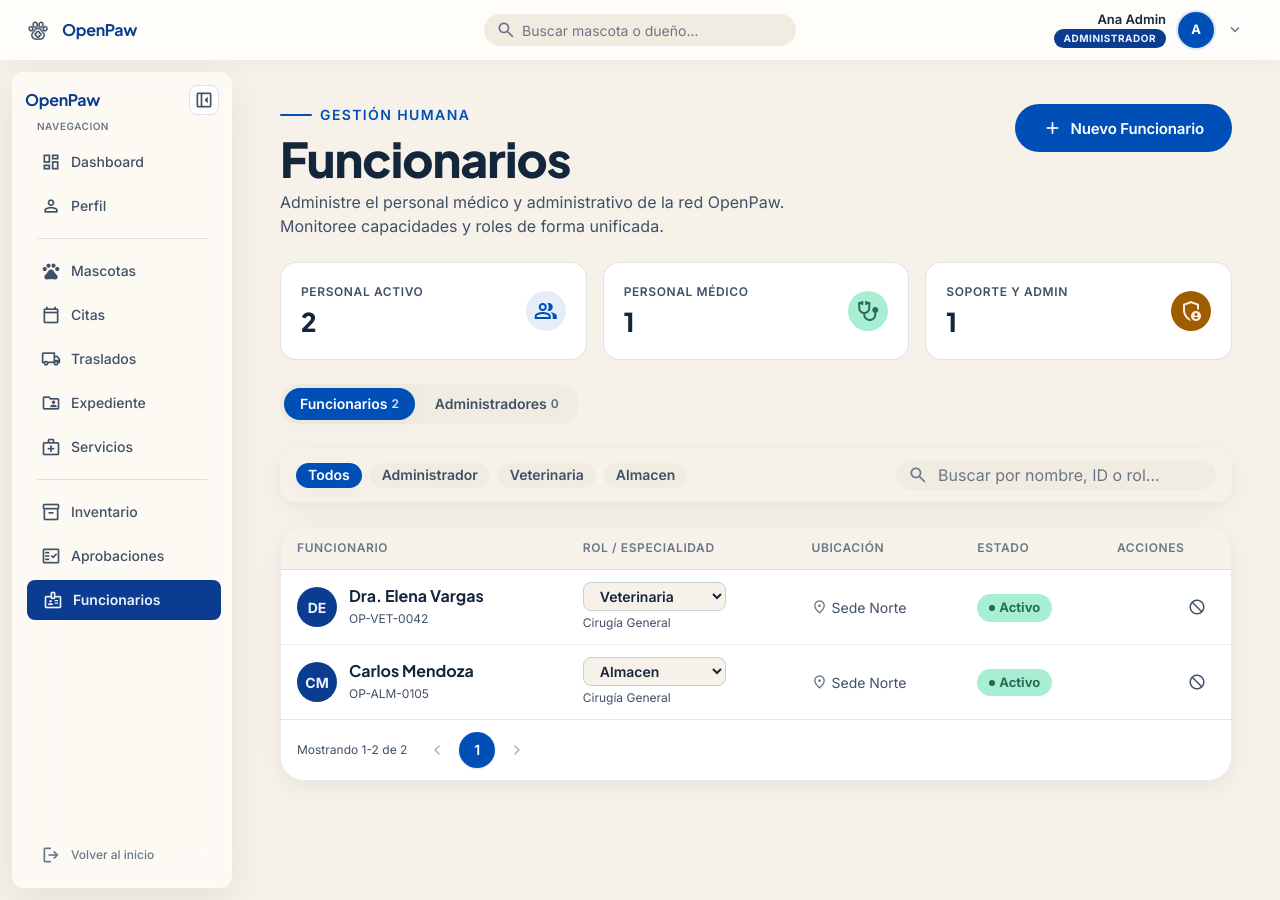
Test: FuncionariosPage - rediseno tabla con buscador, filtros rol y paginacion (T32) › el buscador filtra por texto (nombre / ID corporativo) y se puede limpiar
Expected: the text "Dra. Elena Vargas" is shown, [349, 586, 484, 607]
Step 1. Type "OP-ALM-0105" into the search field named "Buscar funcionario" → (1070, 475), box [936, 464, 1204, 486]
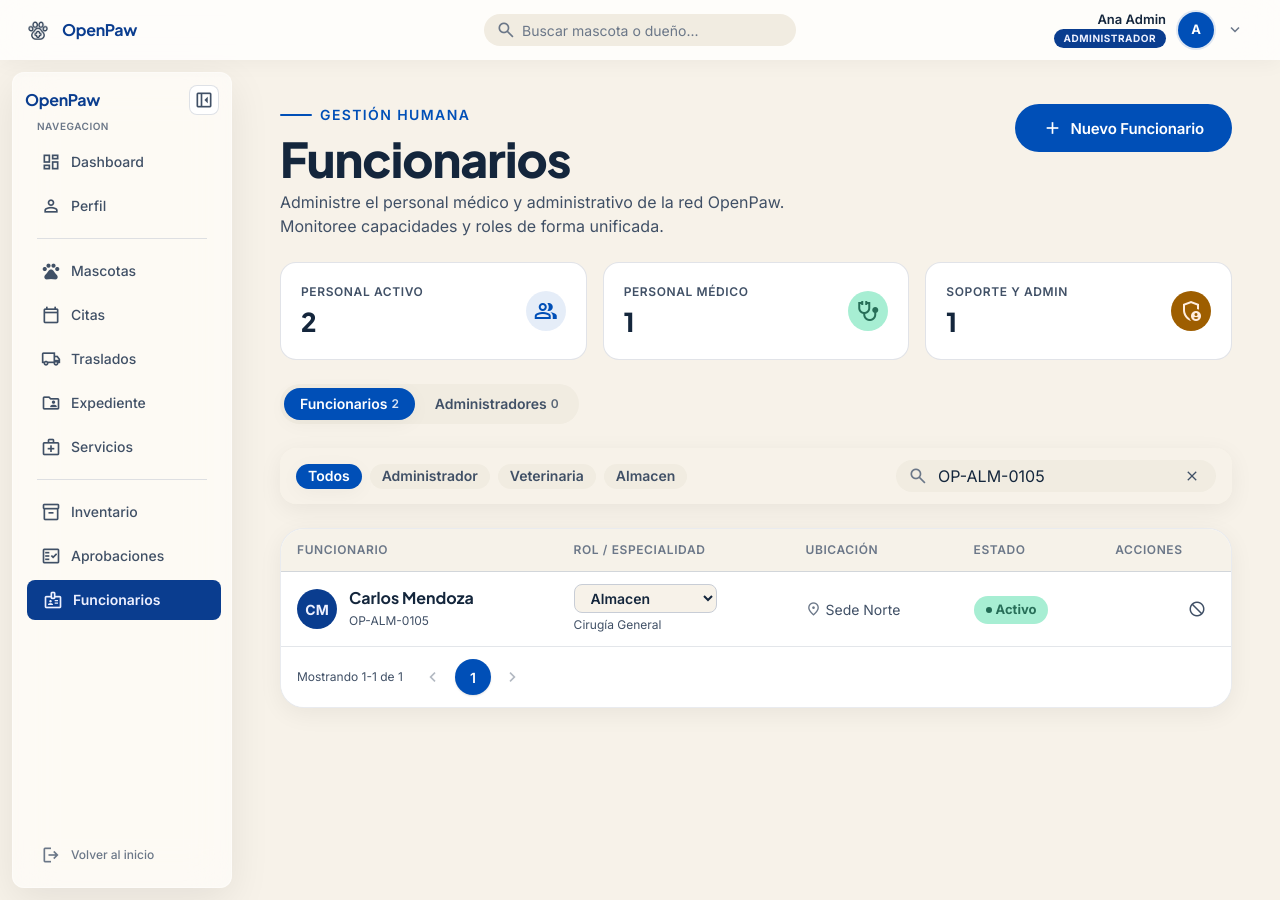
Expected: the text "Carlos Mendoza" is shown, [349, 588, 474, 609]
Result: the text "Dra. Elena Vargas" is gone
Step 2. Click the button named "Limpiar busqueda" → (1192, 476), box [1180, 464, 1204, 488]
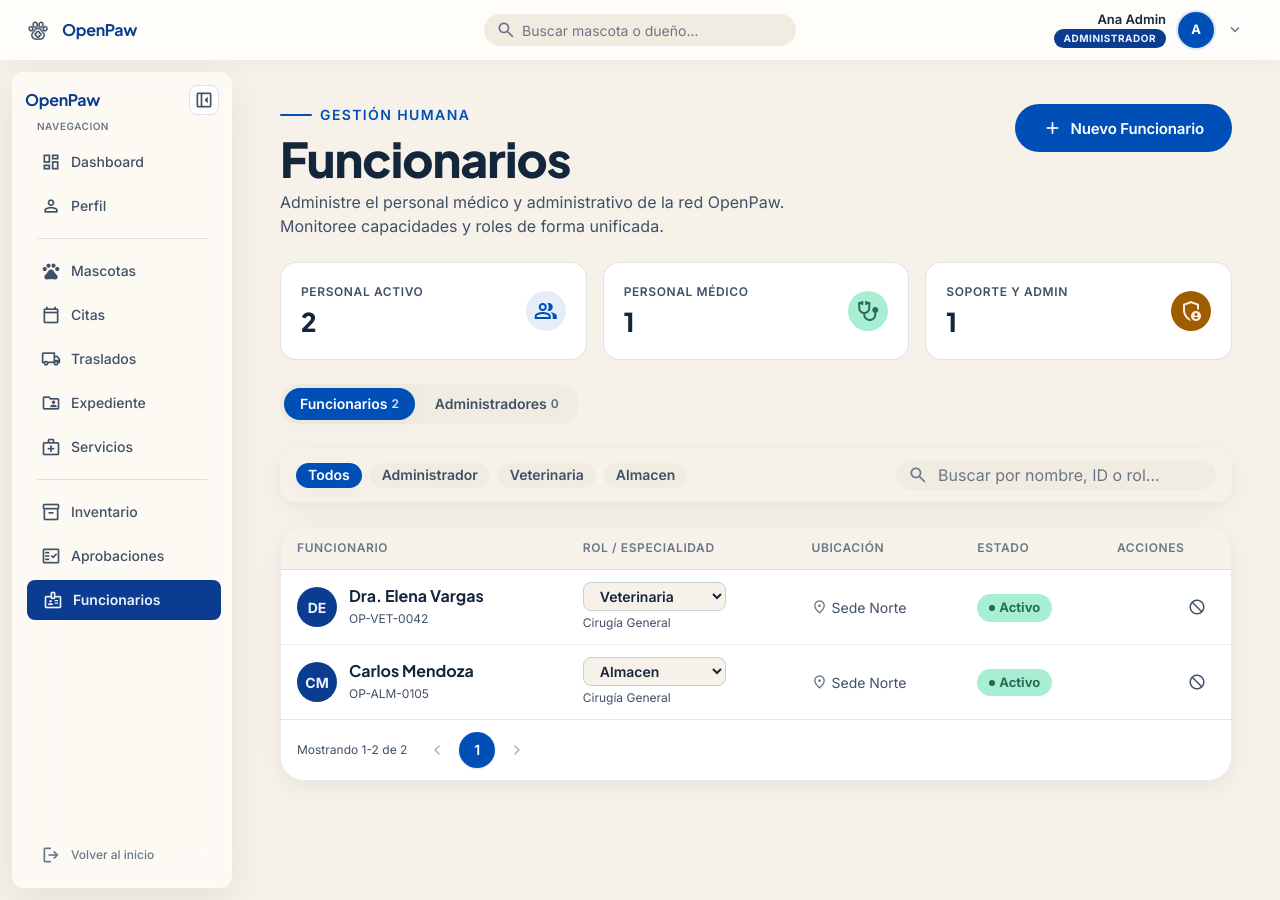
Result: the text "Dra. Elena Vargas" is shown at [349, 586, 484, 607]
